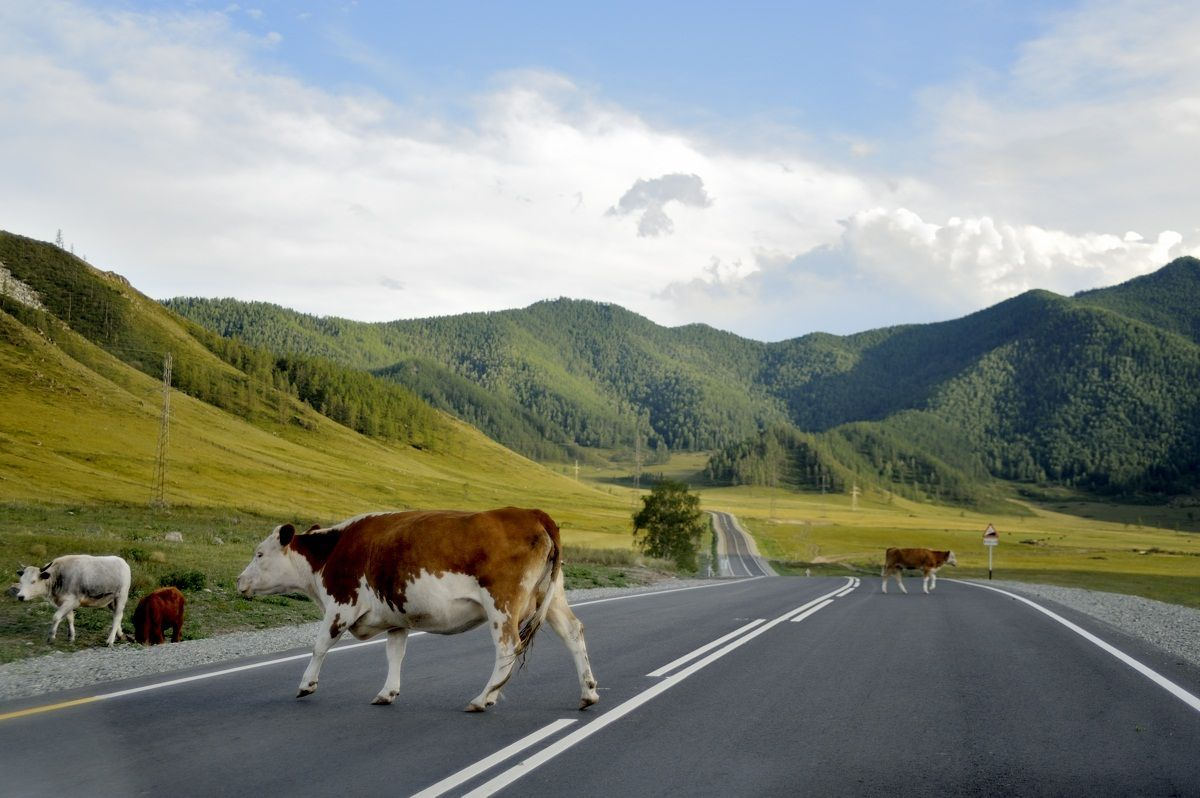inek: (231, 520, 578, 703), (6, 559, 135, 644), (876, 534, 992, 600), (125, 581, 197, 650)
